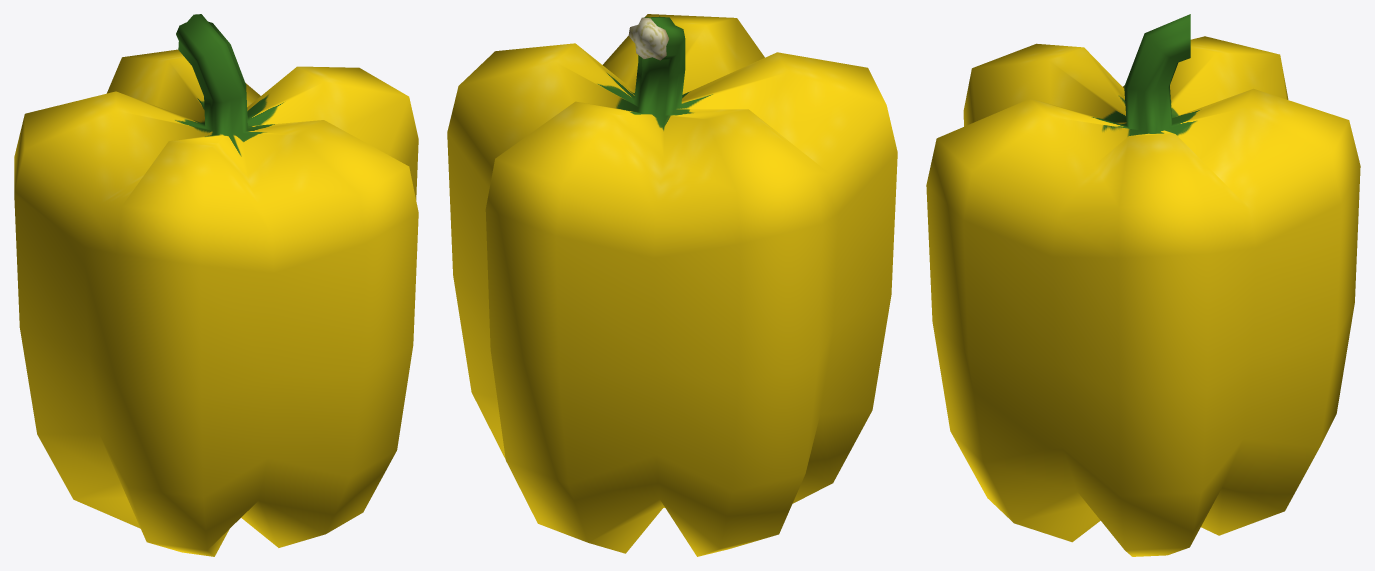
File: CapsicumYellow.fbx
The picture shows the model from 3 angles, left to right: view 1: azimuth 30°, elevation 25°; view 2: azimuth 150°, elevation 25°; view 3: azimuth 270°, elevation 25°; orthographic projection. The views are drawn at different scales.
Parts seen in each view (by area): view 1: CapsicumYellow; view 2: CapsicumYellow; view 3: CapsicumYellow.
Boxes of the visible parts, x1,y1,x2,y2 form: CapsicumYellow: [14, 14, 418, 556]; CapsicumYellow: [447, 14, 897, 556]; CapsicumYellow: [926, 14, 1360, 556].
Size of the model in its own units: 15.29 by 19.92 by 15.54.
